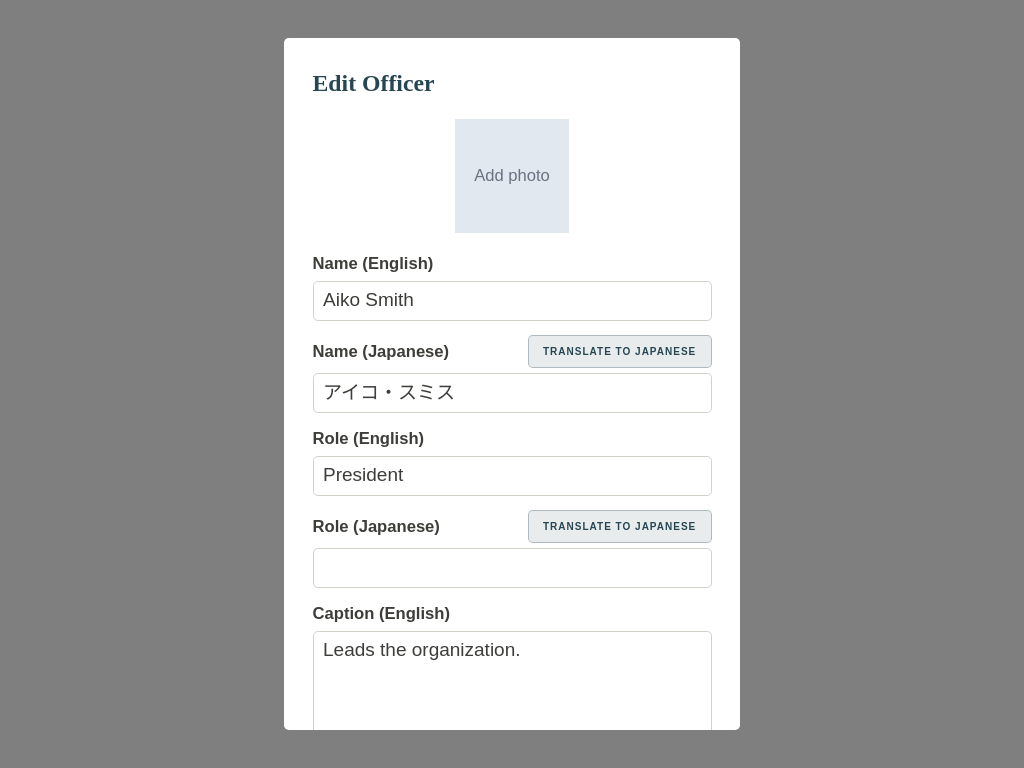
Test: MemberPopUp translation buttons › shows a per-field notice after manual English edits without changing Japanese text
Check: the text "⚠ The English text was changed. Please review the Japanese text." is not shown
Type " Jr." into the field labelled "Name (English)". click: [512, 301]
box: [312, 281, 712, 321]
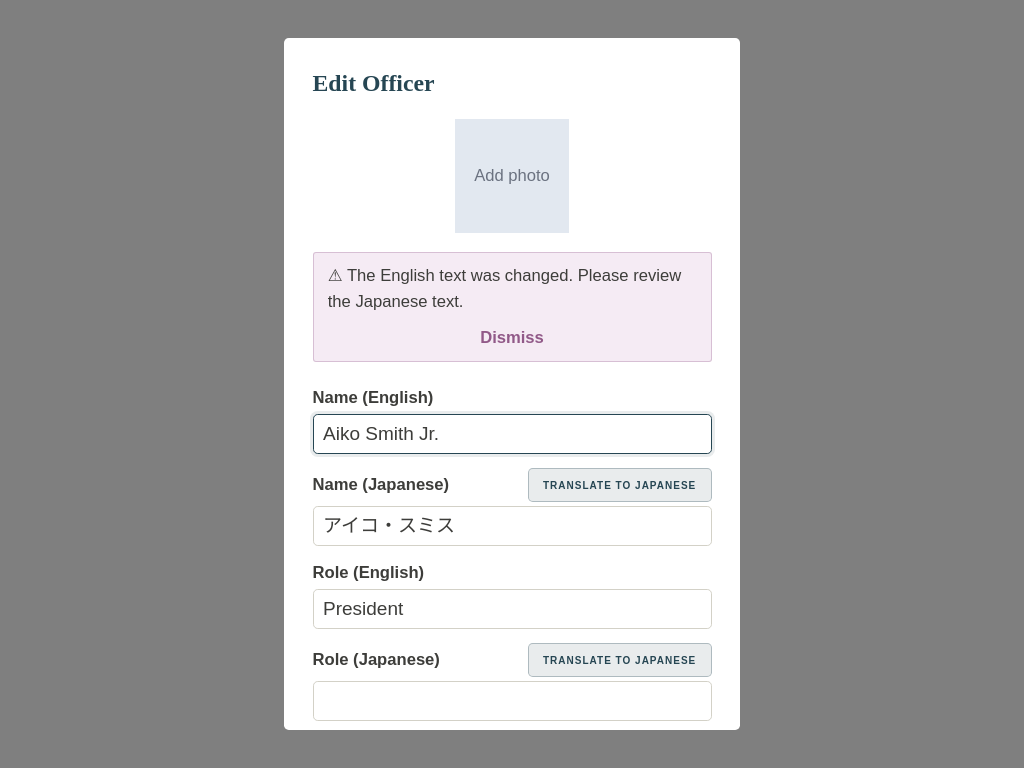
Check: the text "⚠ The English text was changed. Please review the Japanese text." is shown once, box [328, 263, 696, 316]
Click the button with aria-label "Dismiss English text change notice". click: [512, 338]
box: [471, 325, 553, 351]
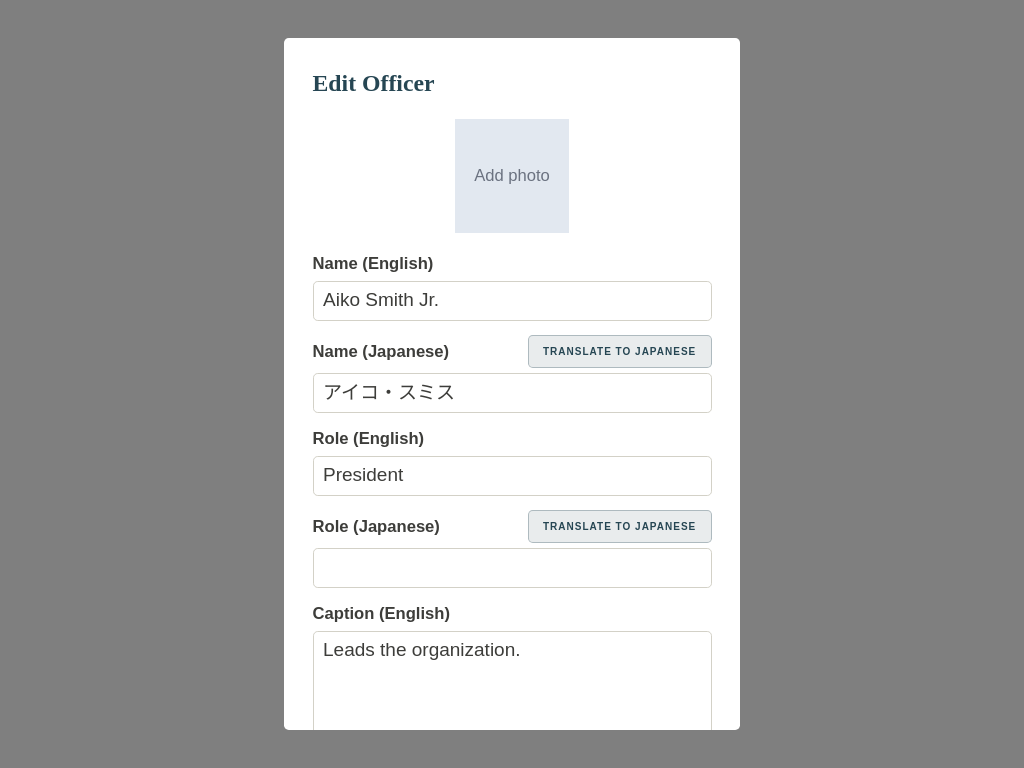
Check: the field labelled "Name (Japanese)" holds "アイコ・スミス", box [312, 373, 712, 413]
Check: the text "⚠ The English text was changed. Please review the Japanese text." is gone
Clear the field labelled "Name (English)". click: [512, 301]
box: [312, 281, 712, 321]
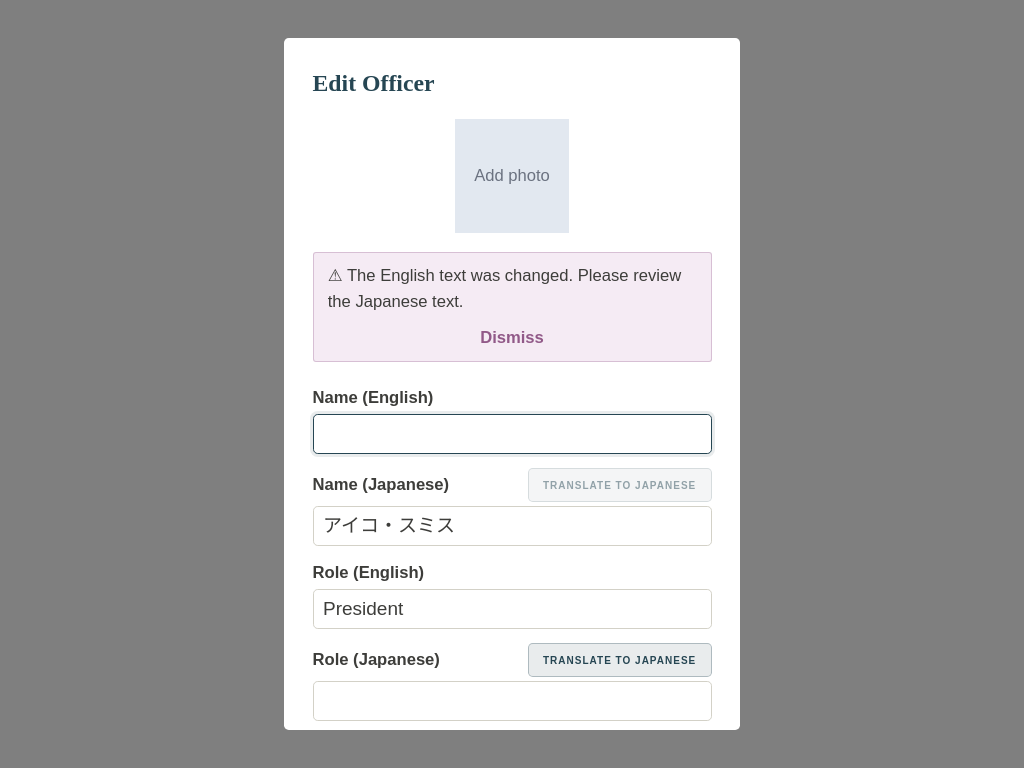
Check: the text "⚠ The English text was changed. Please review the Japanese text." is shown once, box [328, 263, 696, 316]
Type " and Chair" into the field labelled "Role (English)". click: [512, 609]
box: [312, 589, 712, 629]
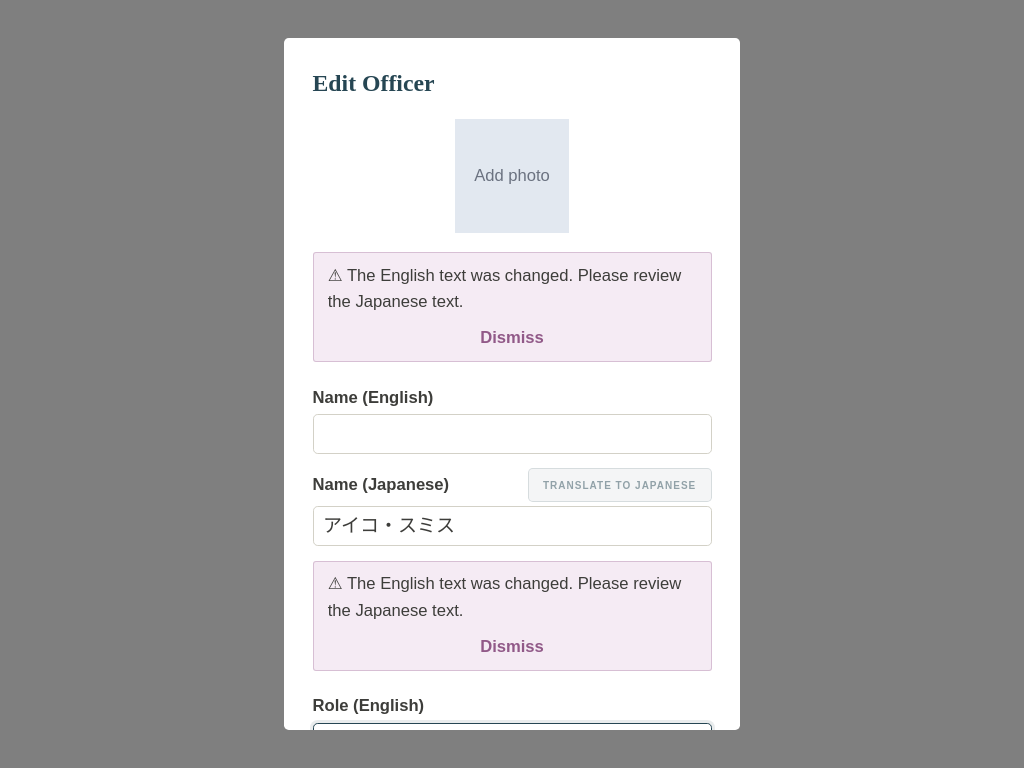
Check: the text "⚠ The English text was changed. Please review the Japanese text." is shown 2 times, box [328, 263, 696, 316]; [328, 571, 696, 624]
